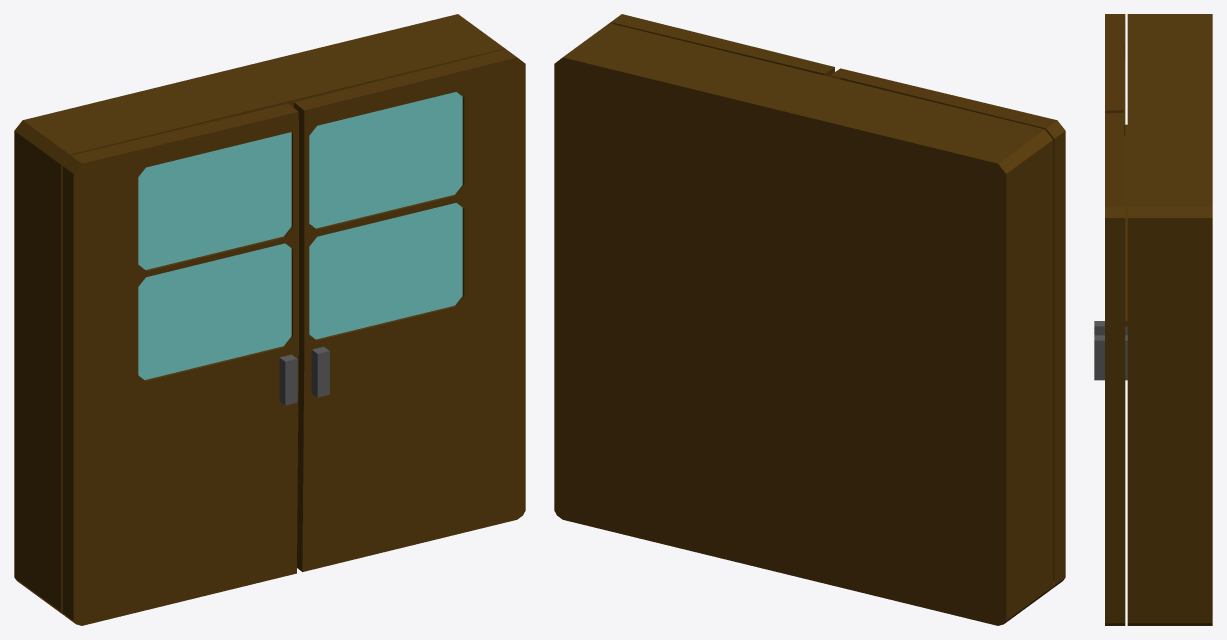
The model's file is Vitrine.fbx.
The picture shows the model from 3 angles, left to right: view 1: azimuth 30°, elevation 25°; view 2: azimuth 150°, elevation 25°; view 3: azimuth 270°, elevation 25°; orthographic projection. The views are drawn at different scales.
Visible parts, largest first — view 1: Vitrine; view 2: Vitrine; view 3: Vitrine.
Part boxes in pixels (<box>): Vitrine: <box>14,14,525,625</box>; Vitrine: <box>554,14,1065,625</box>; Vitrine: <box>1094,14,1212,625</box>.
Bounding box in the file's own units: 538 × 526 × 134.
